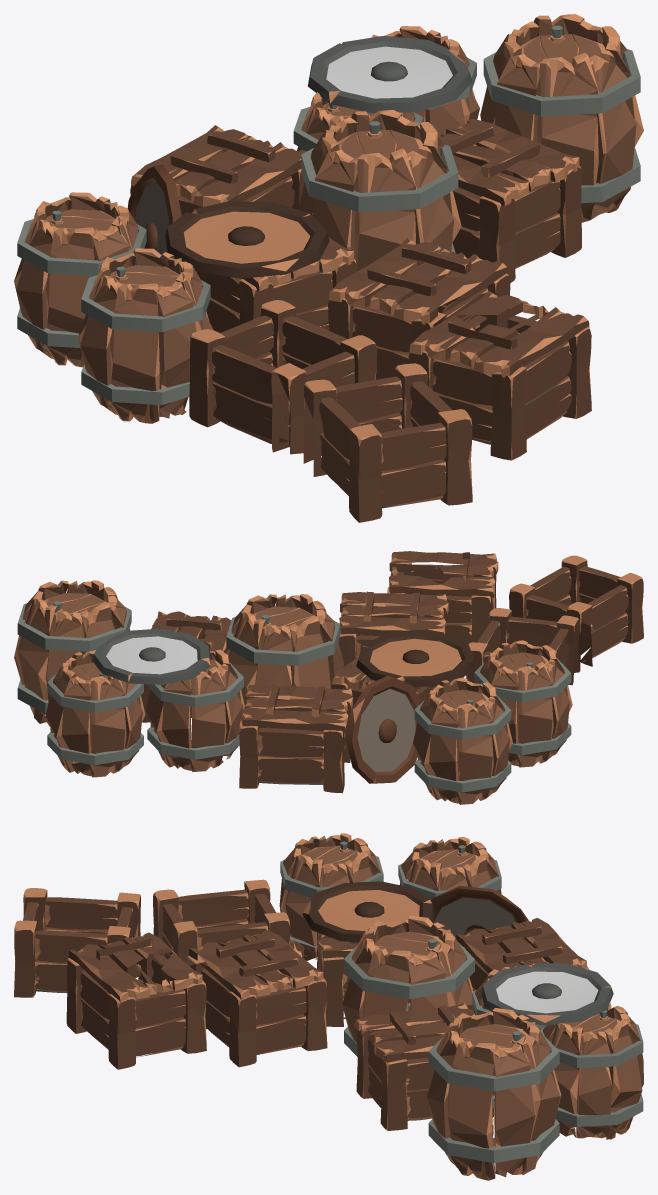
File: Variller.fbx
The picture shows the model from 3 angles, top to bottom: view 1: azimuth 30°, elevation 25°; view 2: azimuth 150°, elevation 25°; view 3: azimuth 270°, elevation 25°; orthographic projection. The views are drawn at different scales.
Parts seen in each view (by area): view 1: Variller; view 2: Variller; view 3: Variller.
Boxes of the visible parts, left/top/right/bottom form: Variller: left=14, top=14, right=643, bottom=522; Variller: left=14, top=551, right=643, bottom=804; Variller: left=14, top=833, right=643, bottom=1180.
Bounding box in the file's own units: 242 × 60.82 × 254.
